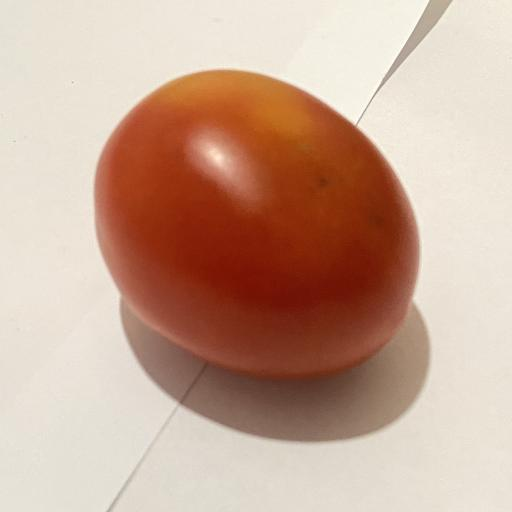ripe: (95, 70, 419, 378)
